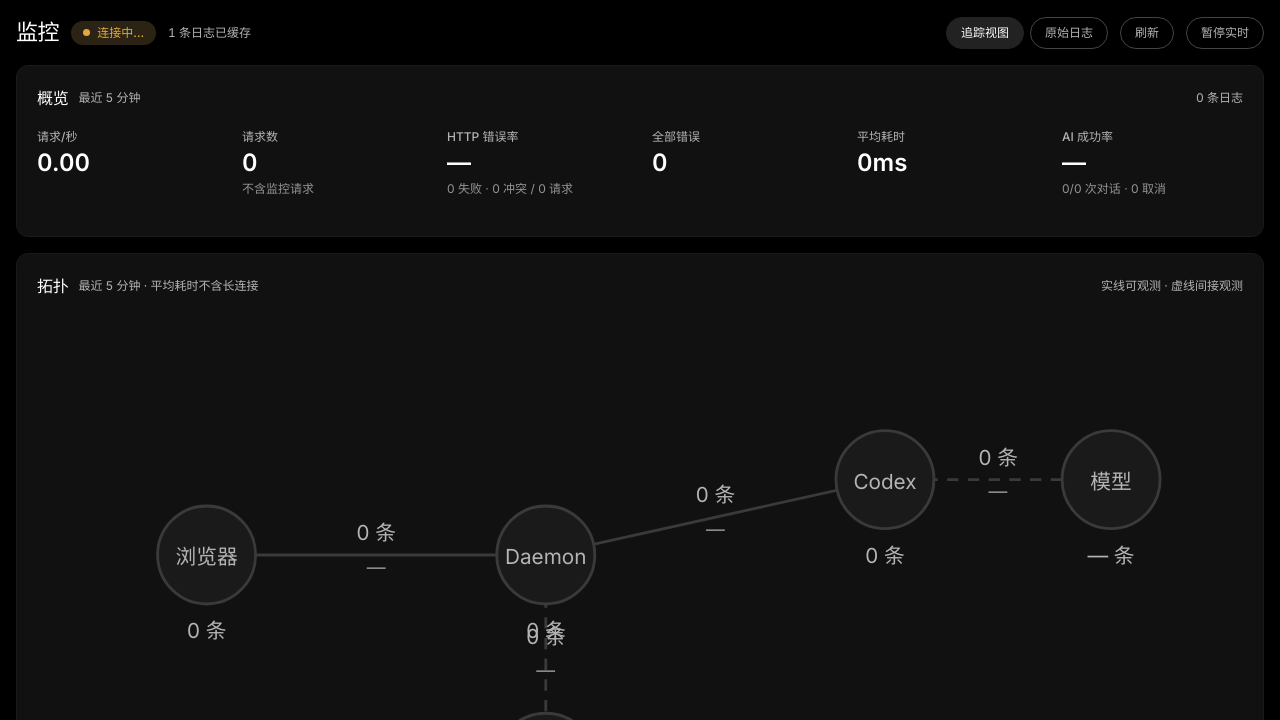
MonitorPage › switches to the raw log view with the view toggle
Click the button "原始日志".
click(1069, 32)  # box [1030, 16, 1108, 48]
(page scrolled)
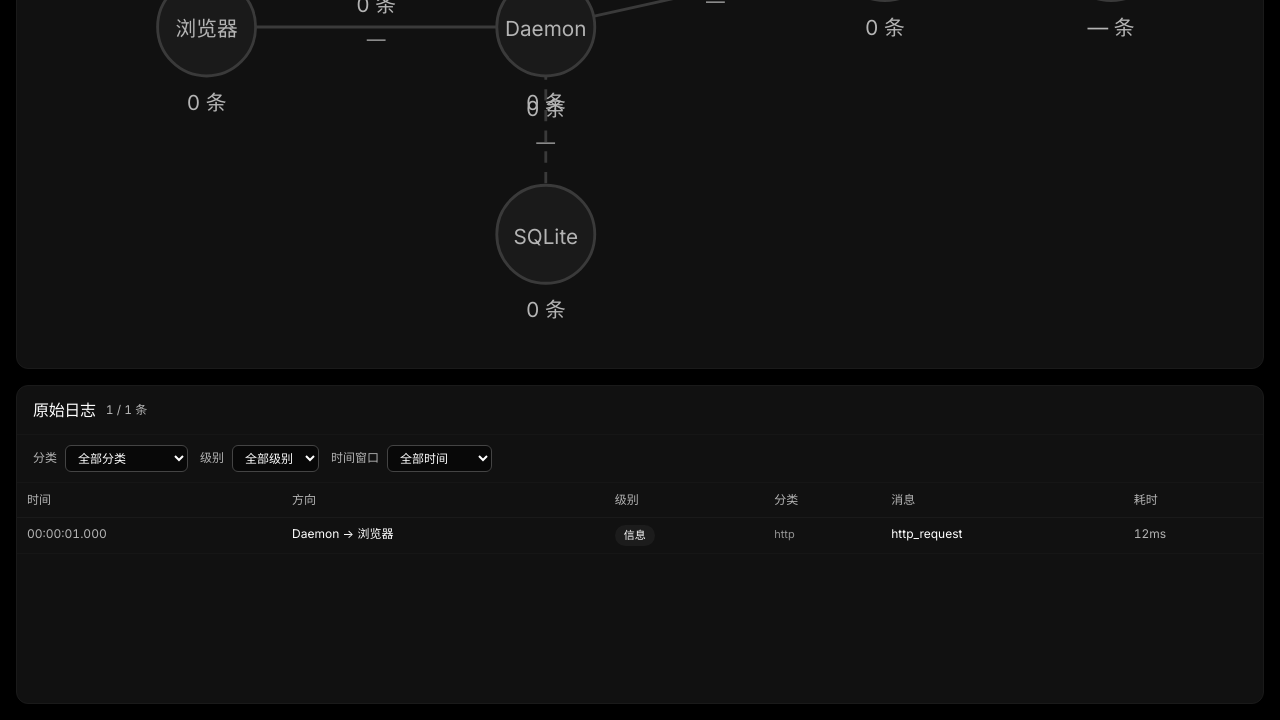
Expected: the text "Daemon → 浏览器" is shown, [282, 517, 605, 554]
Expected: the text "12ms" is shown, [1124, 517, 1263, 554]
